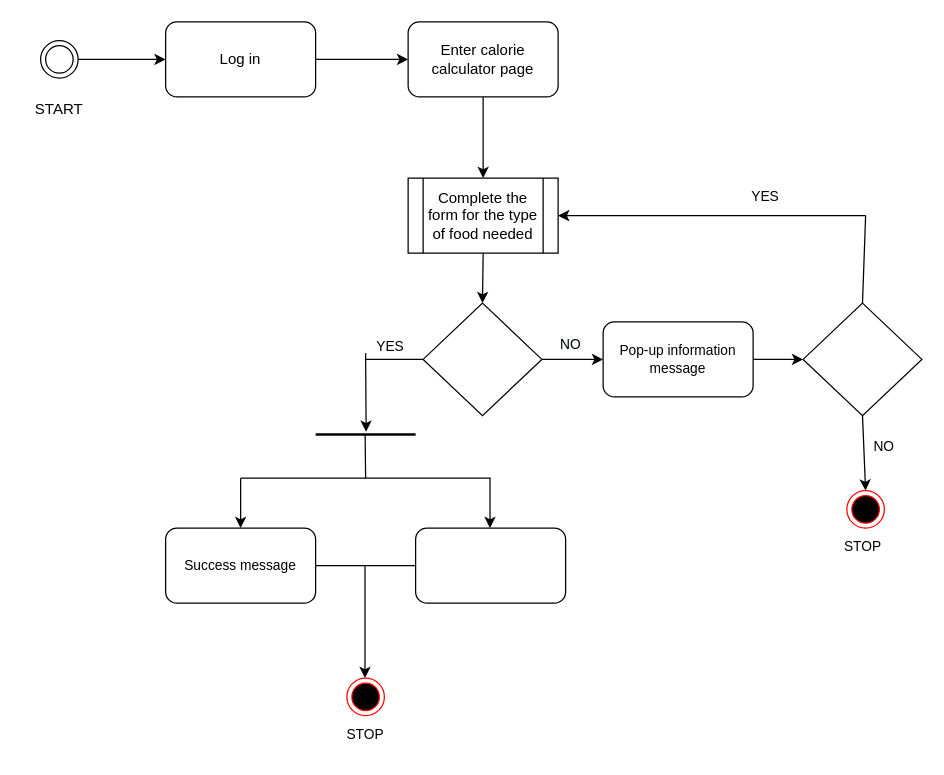
The diagram is 944 pixels wide and 775 high, and some of its shapes have lost their labels. Each missing label, with the centre of its shape:
Display nutritional values: (x=490, y=565)
Do I want to retry?: (x=862, y=359)
Is it in the database?: (x=482, y=359)
